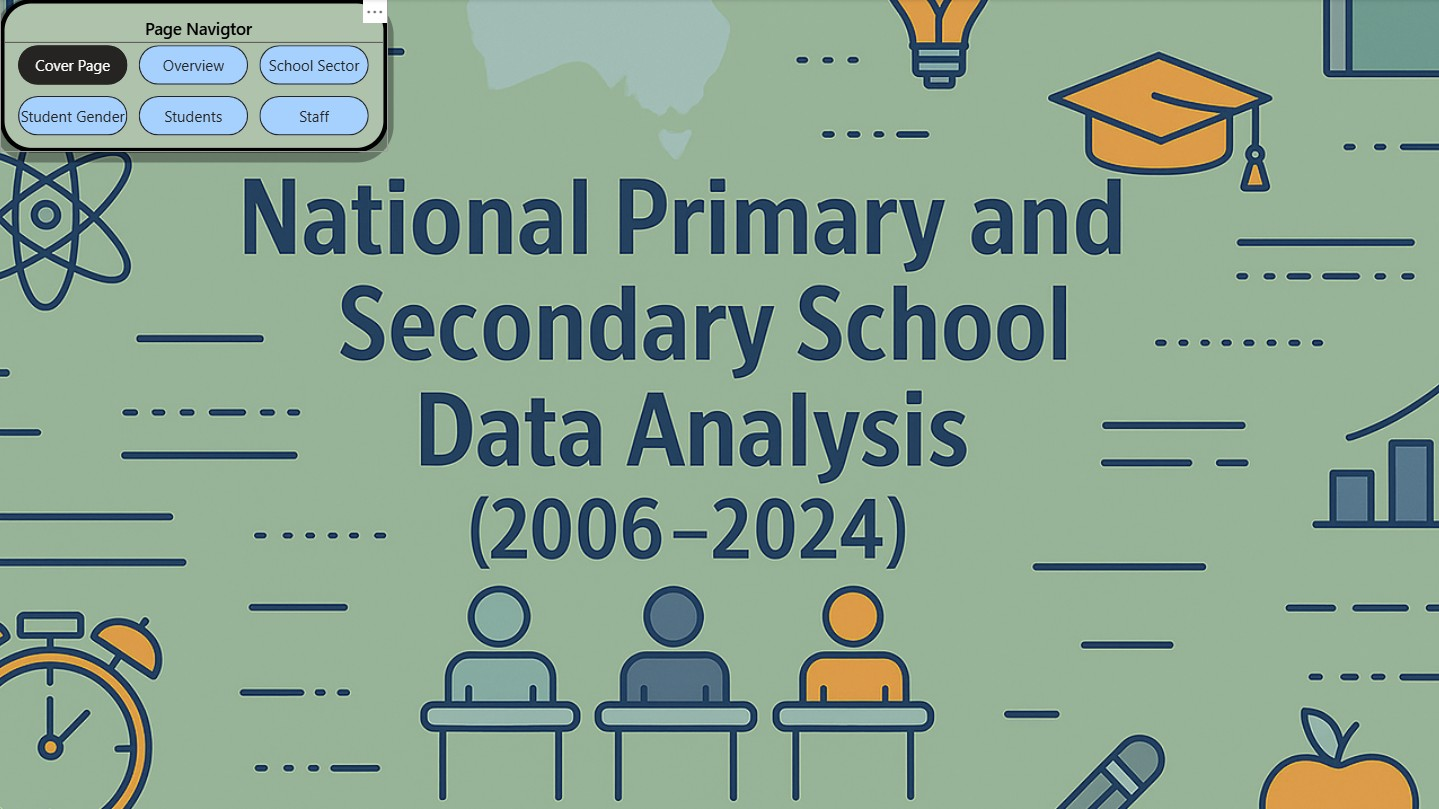

The page's visual inventory and layout, read from the dashboard file:
{"tool":"powerbi","page":{"name":"Cover Page","canvas":[1280,720],"ordinal":0},"visuals":[{"type":"pageNavigator","title":"Page Navigtor","box":[0,0,344,136],"z":0}]}

Visuals, with their boxes in screenshot pixels (x1, y1, x2, y2), scaled from the page's 1280x720 canvas onto the 1439x809 screenshot:
"Page Navigtor" pageNavigator: crop(0, 0, 387, 153)
